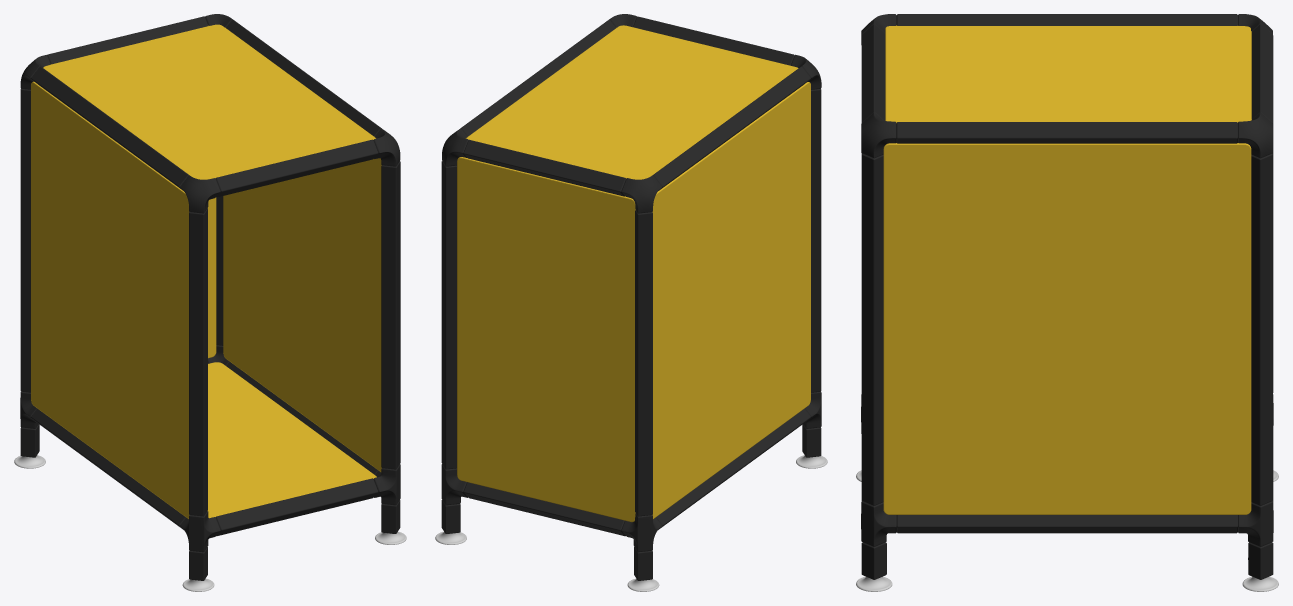
3 renders of one model, left to right at view 1: azimuth 30°, elevation 25°; view 2: azimuth 150°, elevation 25°; view 3: azimuth 270°, elevation 25°, orthographic. The views are drawn at different scales.
Visible parts, largest first — view 1: 229x374x420; view 2: 229x374x420; view 3: 229x374x420.
Boxes of the visible parts, x1,y1,x2,y2 form: 229x374x420: [14, 14, 406, 591]; 229x374x420: [435, 14, 827, 591]; 229x374x420: [856, 14, 1278, 591].
Size of the model in its own units: 0.3189 by 0.5593 by 0.4632.
